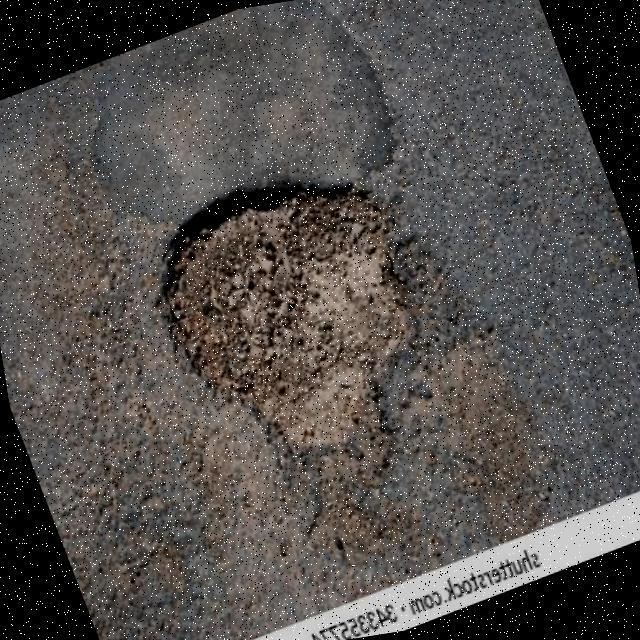Pothole: (160, 186, 410, 449)
